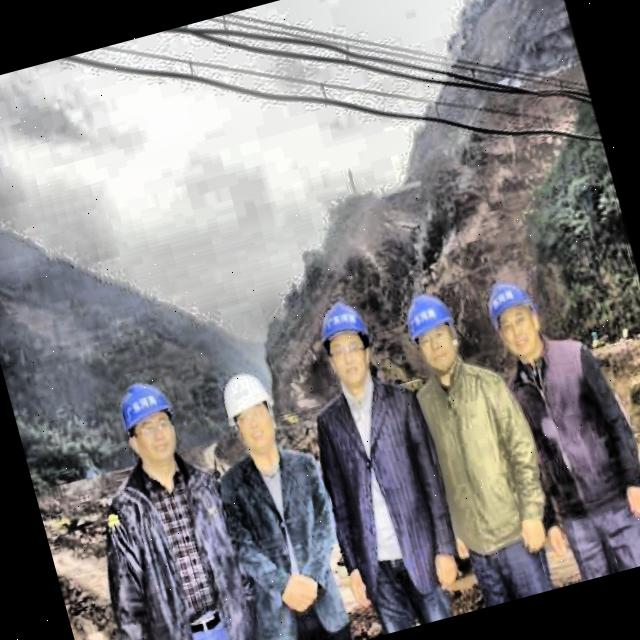helmet: (392, 278, 478, 386), (108, 368, 191, 478), (210, 358, 290, 469), (308, 290, 387, 396), (476, 266, 550, 364)
